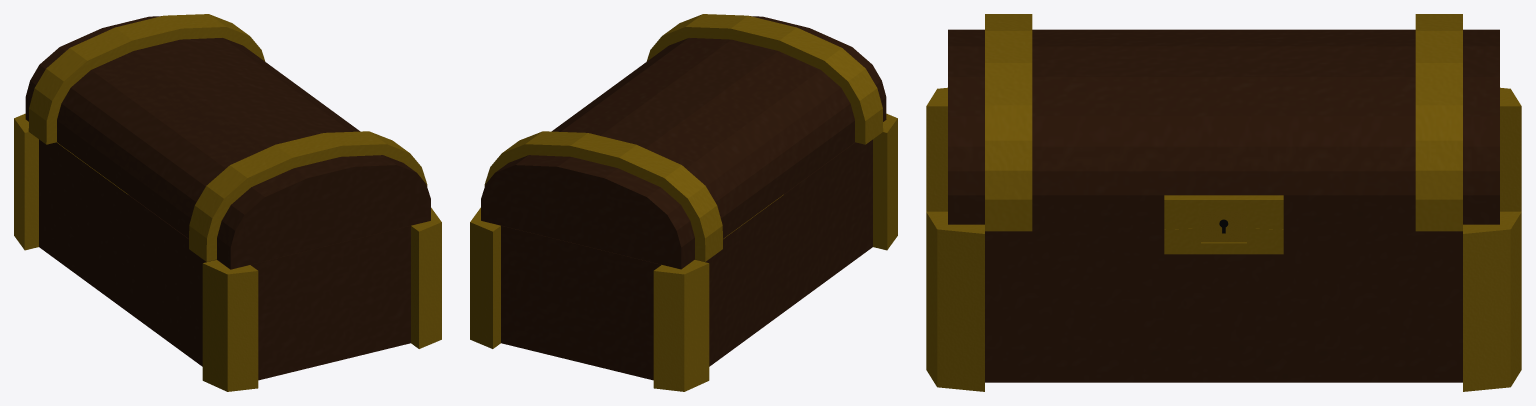
File: chest.fbx
3 renders of one model, left to right at view 1: azimuth 30°, elevation 25°; view 2: azimuth 150°, elevation 25°; view 3: azimuth 270°, elevation 25°, orthographic. The views are drawn at different scales.
Parts seen in each view (by area): view 1: polySurface5; view 2: polySurface5; view 3: polySurface5.
Boxes of the visible parts, box(x1,y1,x2,y2) form: polySurface5: box(14, 14, 441, 391); polySurface5: box(470, 14, 897, 391); polySurface5: box(926, 14, 1521, 391).
Size of the model in its own units: 3.22 by 2.71 by 5.4.
Materials: 1 (1 with a texture image).
